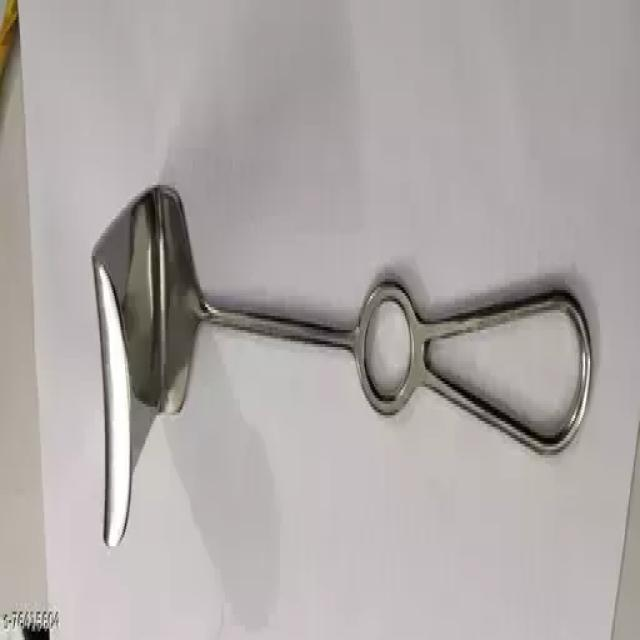Morris Retractor: (90, 167, 596, 560)
